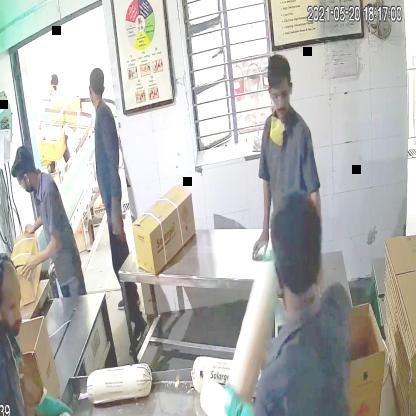no_goggles: (0, 295, 26, 321)
